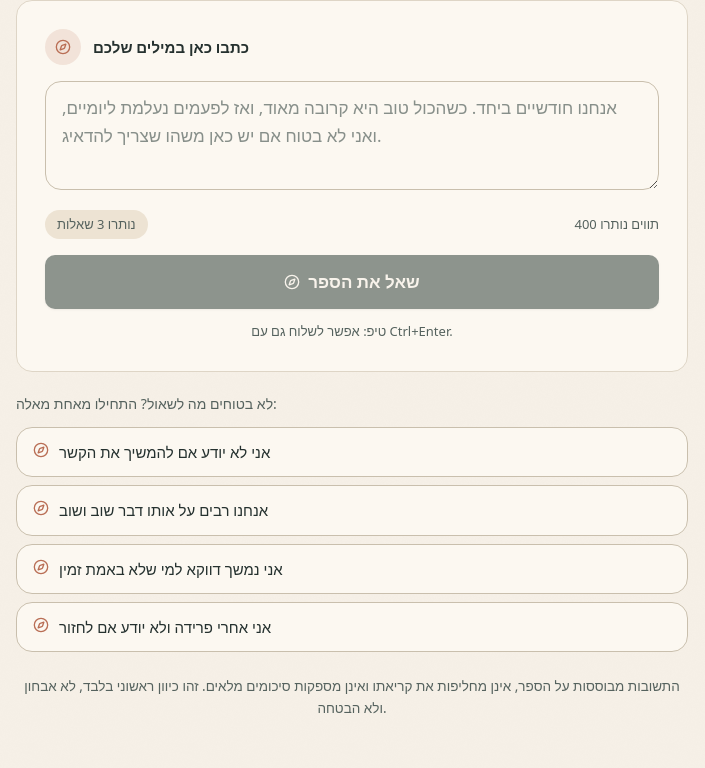
Test: CompassConsole, safety response › keeps the focus line and citation working for a normal answer (regression)
The width and height of the screenshot is (705, 768).
Replace the text in the text box labelled "כתבו כאן במילים שלכם" with "איך יודעים אם זו התאמה". click: (352, 135)
box: [45,81,659,190]
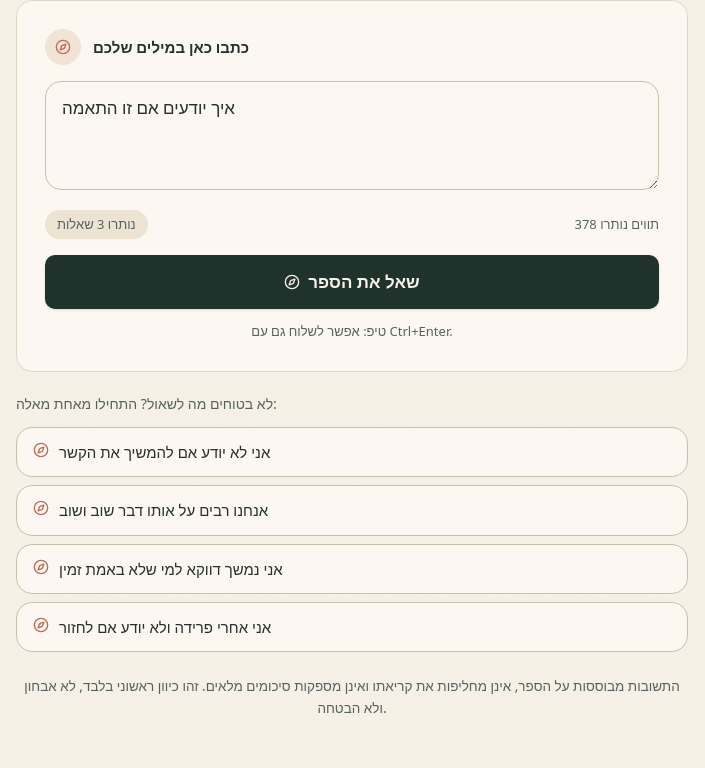
Click the button "שאל את הספר". click: (352, 282)
box: [45,255,659,309]
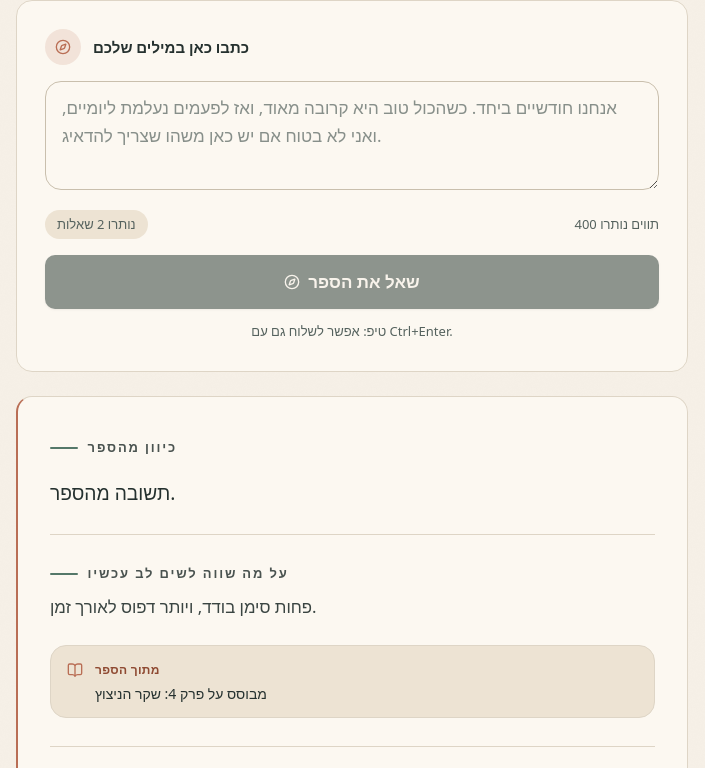
expect the text "תשובה מהספר." is shown: met, box [50,478,175,506]
expect the text "על מה שווה לשים לב עכשיו" is shown: met, box [88,564,289,582]
expect the text "מתוך הספר" is shown: met, box [95,661,160,678]
